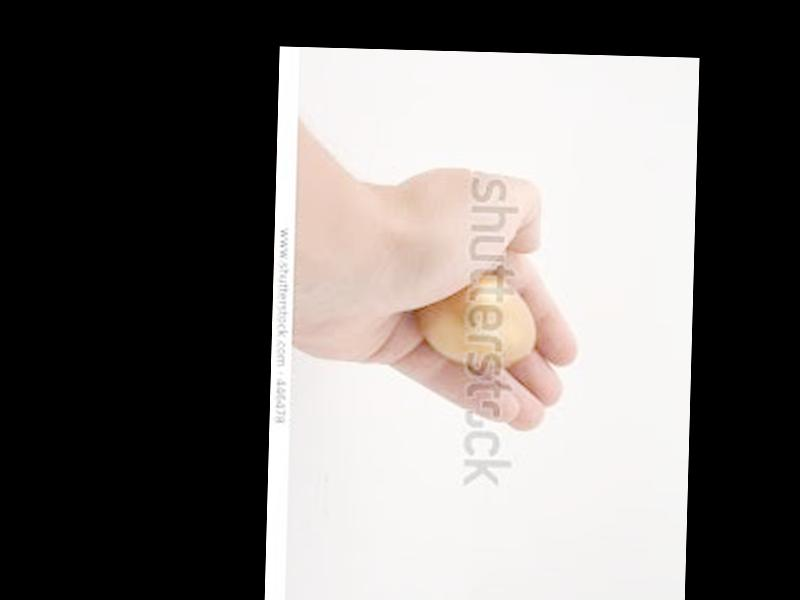Eggs: (420, 276, 536, 367)
